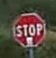stop: (10, 11, 47, 47)
